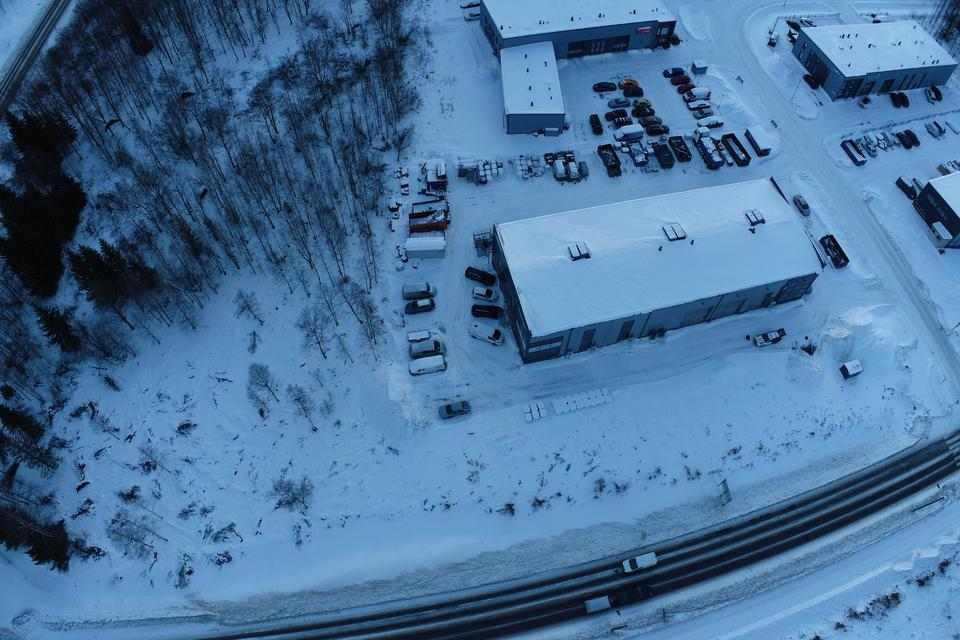intersection: (900, 347, 960, 480)
